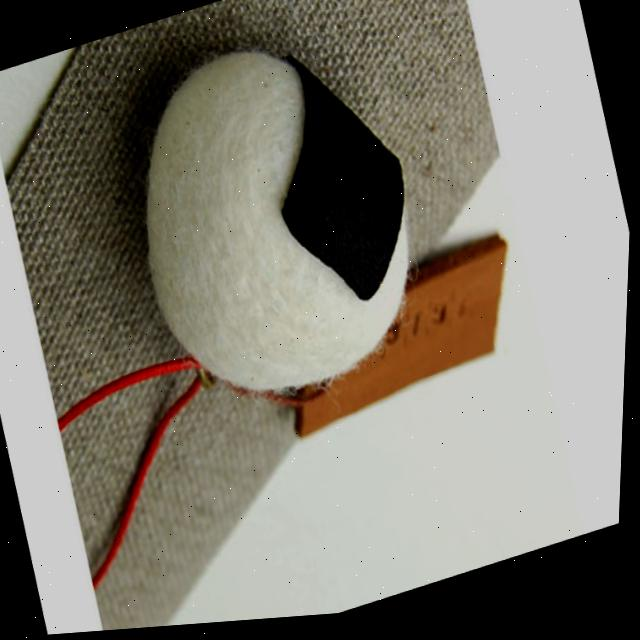米饭主食: (88, 0, 478, 456)
